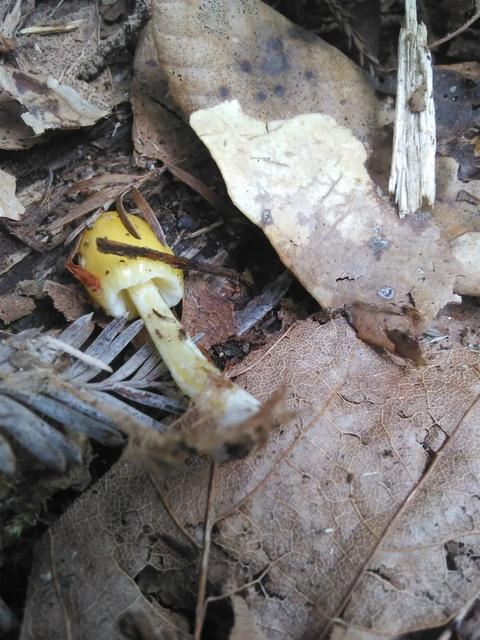Edible Mushroom: (65, 207, 271, 462)
